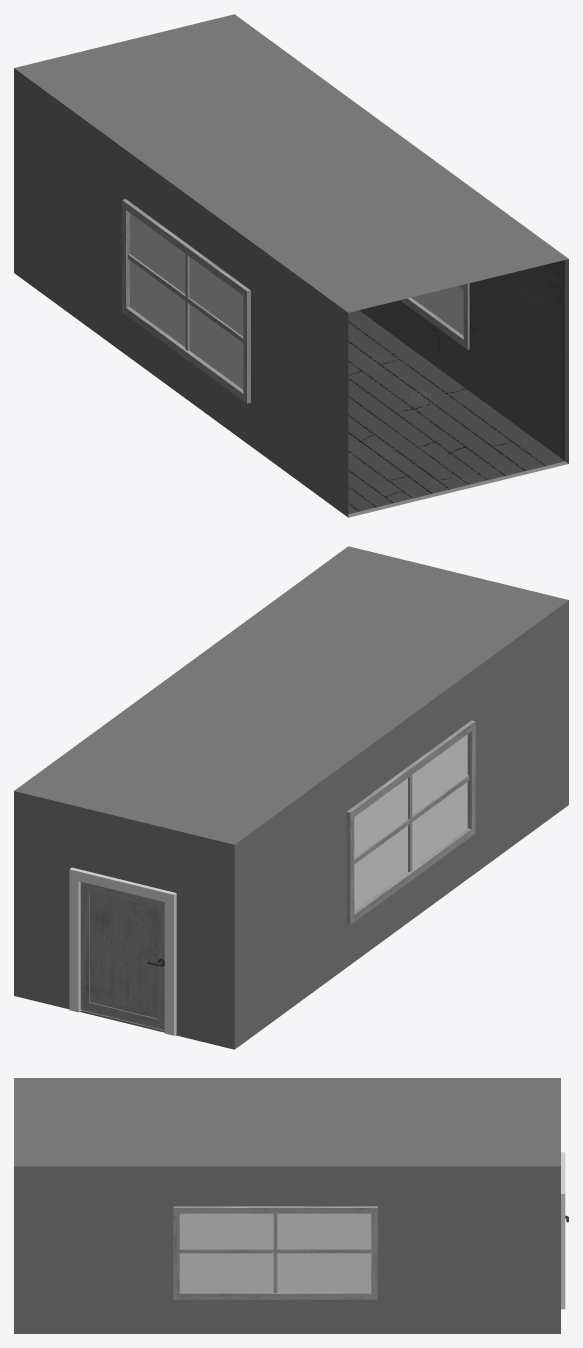
Rendered from Hallway.fbx.
The picture shows the model from 3 angles, top to bottom: view 1: azimuth 30°, elevation 25°; view 2: azimuth 150°, elevation 25°; view 3: azimuth 270°, elevation 25°; orthographic projection. The views are drawn at different scales.
Parts seen in each view (by area): view 1: Hallway, WindowFrame.002, WindowFrame.003; view 2: Hallway, WindowFrame.002, Door.009, DoorFrame.009; view 3: Hallway, WindowFrame.003, DoorFrame.009.
Part boxes in pixels (<box>): Hallway: <box>14,14,568,517</box>; WindowFrame.002: <box>122,199,250,403</box>; WindowFrame.003: <box>400,283,469,349</box>; Hallway: <box>14,546,568,1049</box>; WindowFrame.002: <box>346,720,475,924</box>; Door.009: <box>80,881,164,1029</box>; DoorFrame.009: <box>69,867,176,1035</box>; Hallway: <box>14,1078,560,1333</box>; WindowFrame.003: <box>173,1206,377,1299</box>; DoorFrame.009: <box>561,1152,565,1309</box>.
Size of the model in its own units: 662 by 567 by 1702.
